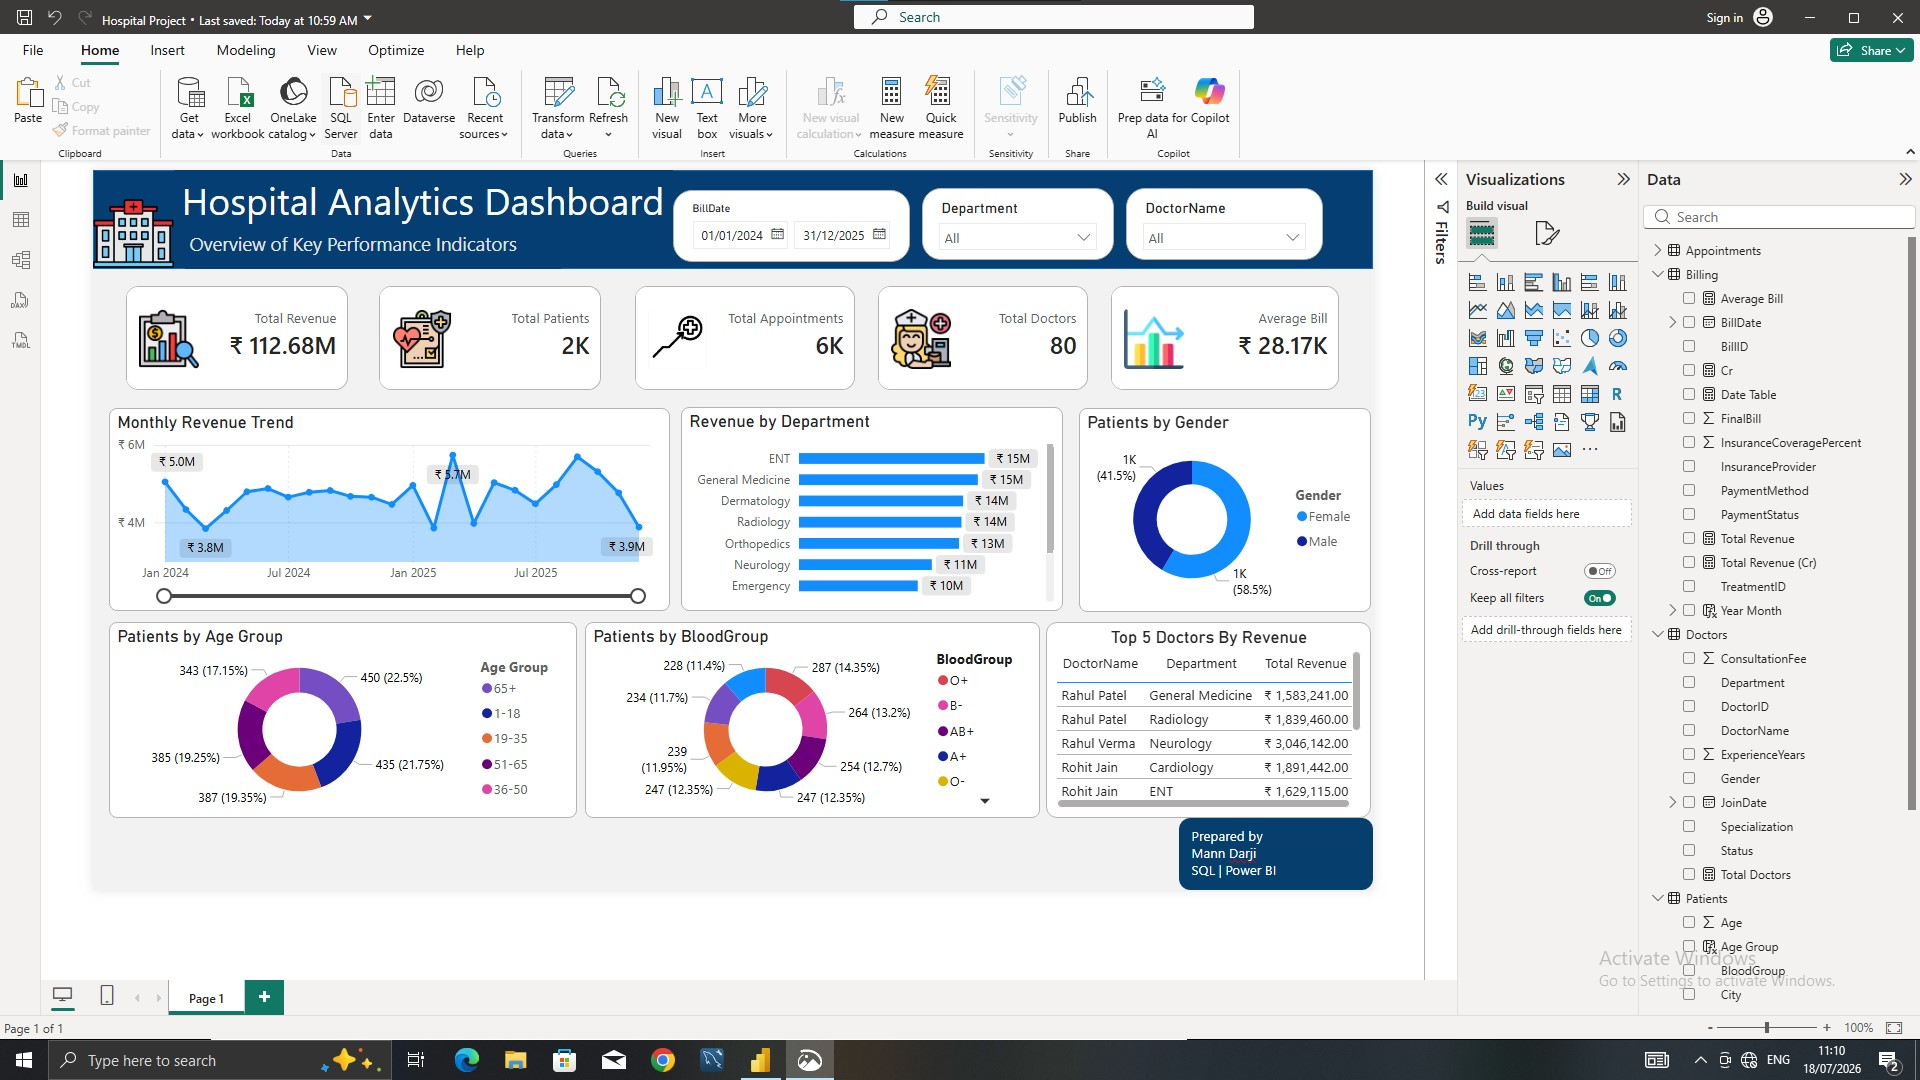

The dashboard page shown, as its layout file describes it:
{"tool":"powerbi","page":{"name":"Page 1","canvas":[1280,720],"ordinal":0},"visuals":[{"type":"cardVisual","fields":{"Data":["Billing.Total Revenue"]},"box":[16,99,256,138],"z":0},{"type":"shape","box":[0,0,1280,99],"z":1000},{"type":"textbox","box":[81,0,499,64],"z":2000},{"type":"image","box":[0,14,81,99],"z":3000},{"type":"textbox","box":[92,56,376,43],"z":4000},{"type":"cardVisual","fields":{"Data":["Patients.Total Patients"]},"box":[269,99,256,138],"z":5000},{"type":"cardVisual","fields":{"Data":["Appointments.Total Appointments"]},"box":[525,99,254,138],"z":6000},{"type":"cardVisual","fields":{"Data":["Doctors.Total Doctors"]},"box":[768,99,244,138],"z":7000},{"type":"cardVisual","fields":{"Data":["Billing.Average Bill"]},"box":[1001,99,262,138],"z":8000},{"type":"lineChart","title":"Monthly Revenue Trend","fields":{"Category":["Billing.Year Month"],"Y":["Billing.Total Revenue"]},"box":[16,238,561,203],"z":9000},{"type":"clusteredBarChart","title":"Revenue by Department","fields":{"Y":["Billing.Total Revenue"],"Category":["Doctors.Department"]},"box":[588,237,382,204],"z":10000},{"type":"donutChart","title":"Patients by Gender","fields":{"Category":["Patients.Gender"],"Y":["Patients.Total Patients"]},"box":[986,238,292,204],"z":11000},{"type":"donutChart","title":"Patients by Age Group","fields":{"Y":["Patients.Total Patients"],"Category":["Patients.Age Group"]},"box":[16,452,468,196],"z":12000},{"type":"donutChart","title":"Patients by BloodGroup","fields":{"Category":["Patients.BloodGroup"],"Y":["Patients.Total Patients"]},"box":[492,452,455,196],"z":14000},{"type":"slicer","fields":{"Values":["Billing.BillDate"]},"box":[580,20,237,72],"z":15000},{"type":"slicer","fields":{"Values":["Doctors.Department"]},"box":[829,18,192,72],"z":16000},{"type":"slicer","fields":{"Values":["Doctors.DoctorName"]},"box":[1033,18,197,72],"z":17000},{"type":"tableEx","title":"Top 5 Doctors By Revenue","fields":{"Values":["Doctors.DoctorName","Doctors.Department","Billing.Total Revenue"]},"box":[953,452,325,196],"z":17001},{"type":"shape","box":[1086,648,194,72],"z":17002},{"type":"textbox","box":[1094,652,111,68],"z":17003}]}

Visuals, with their boxes on the page's 1280x720 design canvas (x1, y1, x2, y2). These are canvas units, not pixel positions in the 1920x1080 screenshot, which may show the page scaled, cropped or inside an application window:
cardVisual - Billing.Total Revenue: Rect(16, 99, 272, 237)
shape: Rect(0, 0, 1280, 99)
textbox: Rect(81, 0, 580, 64)
image: Rect(0, 14, 81, 113)
textbox: Rect(92, 56, 468, 99)
cardVisual - Patients.Total Patients: Rect(269, 99, 525, 237)
cardVisual - Appointments.Total Appointments: Rect(525, 99, 779, 237)
cardVisual - Doctors.Total Doctors: Rect(768, 99, 1012, 237)
cardVisual - Billing.Average Bill: Rect(1001, 99, 1263, 237)
"Monthly Revenue Trend" lineChart: Rect(16, 238, 577, 441)
"Revenue by Department" clusteredBarChart: Rect(588, 237, 970, 441)
"Patients by Gender" donutChart: Rect(986, 238, 1278, 442)
"Patients by Age Group" donutChart: Rect(16, 452, 484, 648)
"Patients by BloodGroup" donutChart: Rect(492, 452, 947, 648)
slicer - Billing.BillDate: Rect(580, 20, 817, 92)
slicer - Doctors.Department: Rect(829, 18, 1021, 90)
slicer - Doctors.DoctorName: Rect(1033, 18, 1230, 90)
"Top 5 Doctors By Revenue" tableEx: Rect(953, 452, 1278, 648)
shape: Rect(1086, 648, 1280, 720)
textbox: Rect(1094, 652, 1205, 720)
